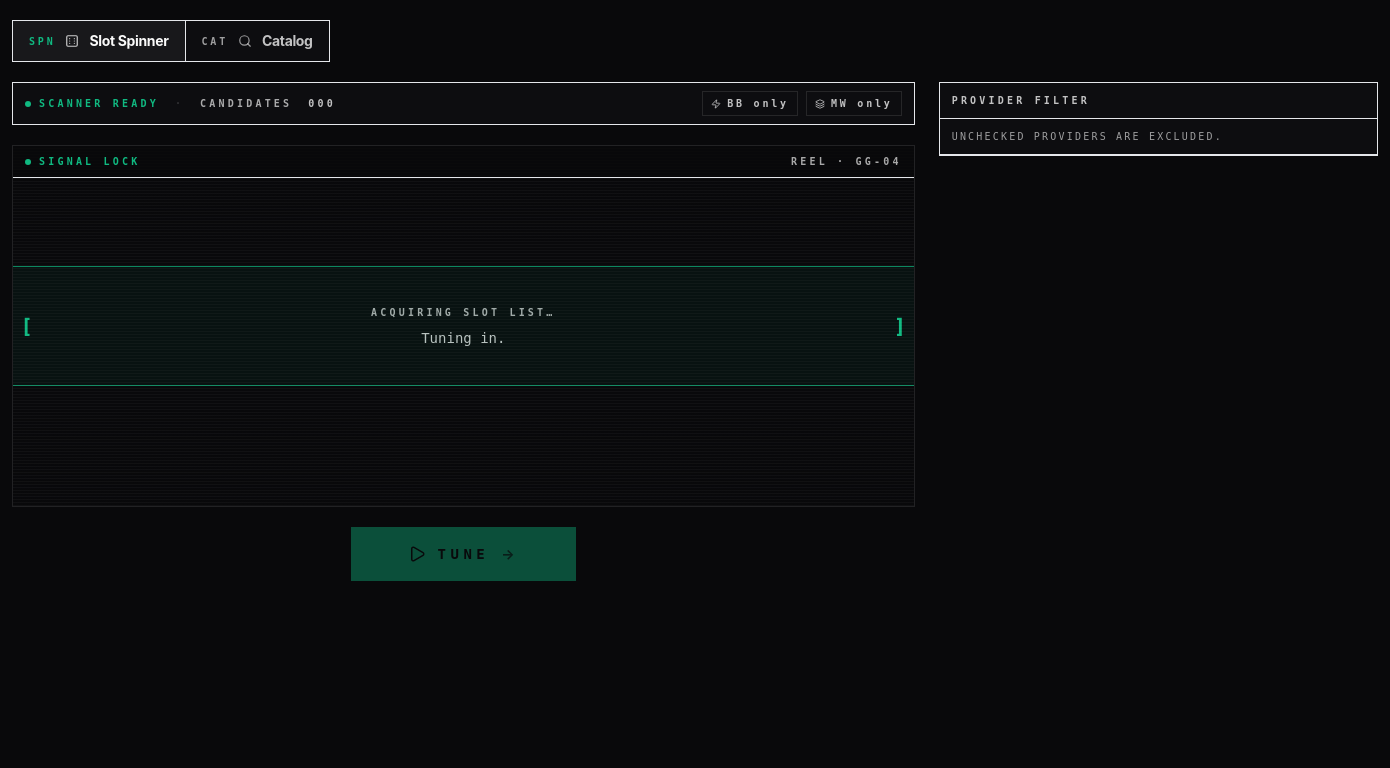
Scenario: catalog shows the offline line when the slot list fails
Click the button "CAT Catalog" at coordinates (257, 41), box left=184, top=21, right=329, bottom=61
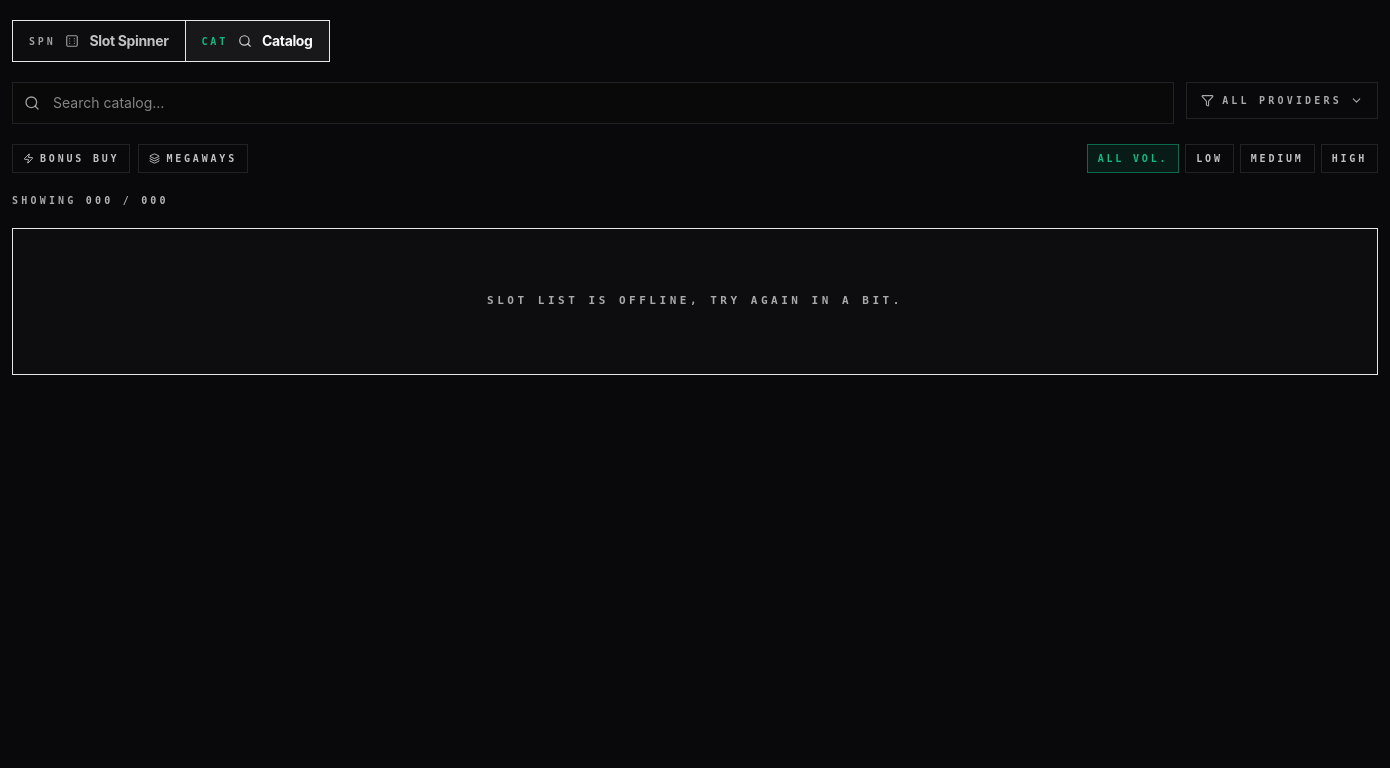
Expected: the text "Slot list is offline, try again in a bit." is shown, left=487, top=294, right=903, bottom=307
Expected: the button "Megaways" is shown, left=138, top=144, right=248, bottom=173
